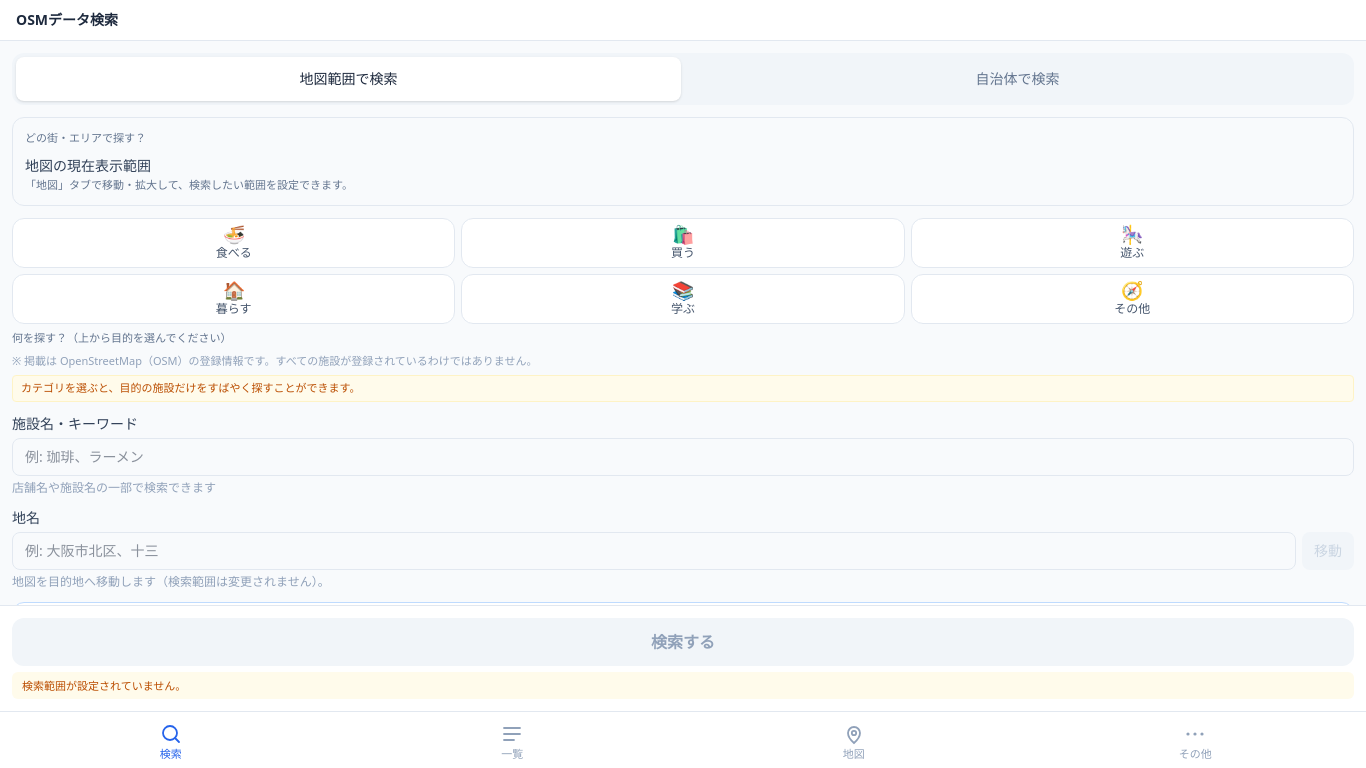
(#59) 地図タブ: 明示的な検索トリガー › マーカータップで施設詳細ボトムシートが開く
The image size is (1366, 768).
Click the button "🍜 食べる" at (234, 243), box [12,218,455,268]
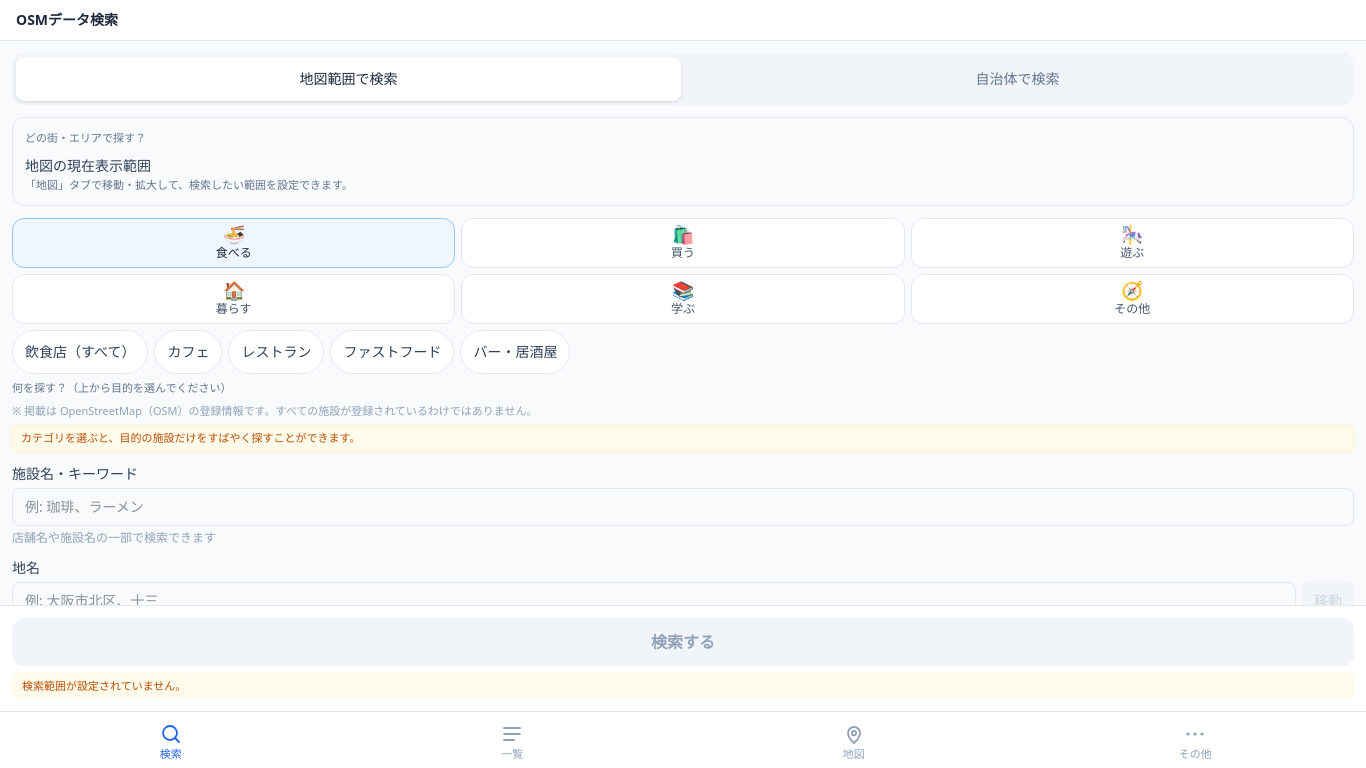
Click the button "カフェ" at (188, 352), box [154,330,222,374]
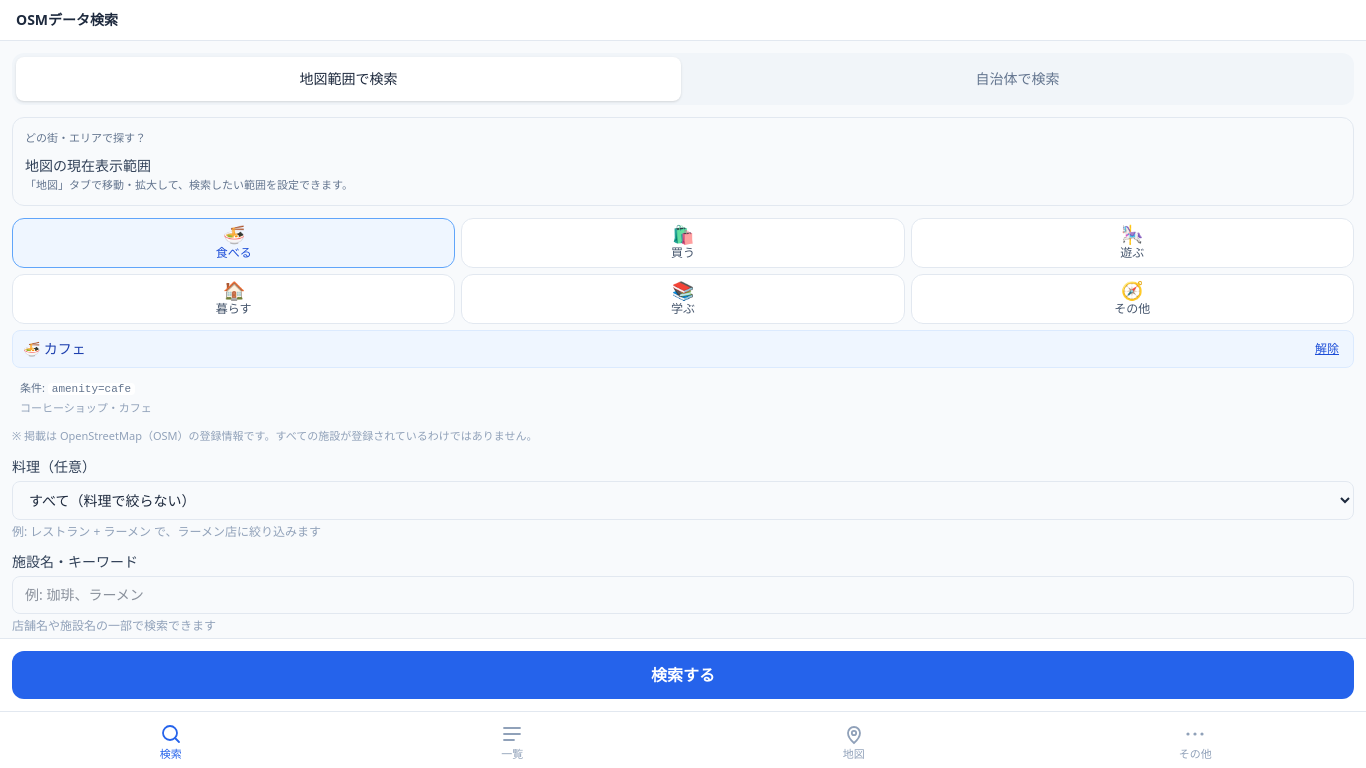
Click the button "検索する" at (683, 675), box [12,651,1354,699]
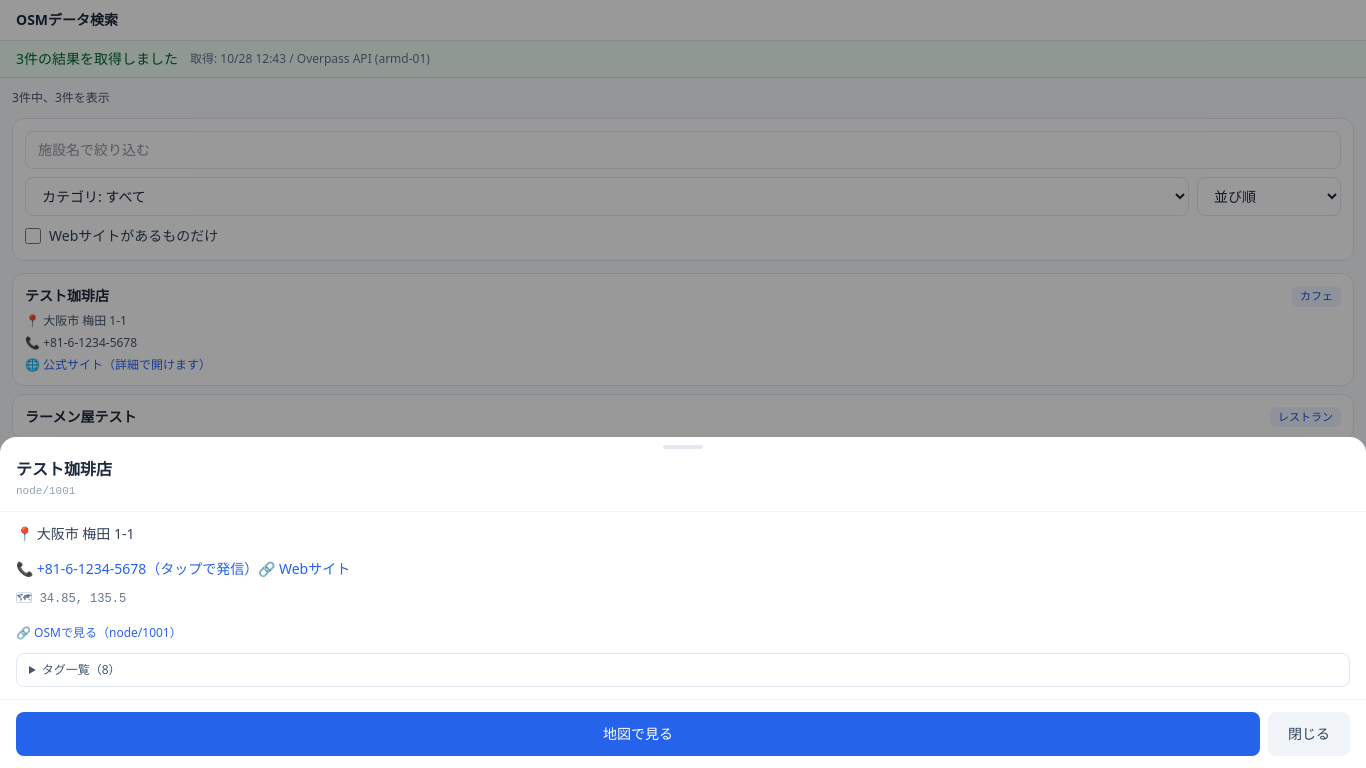
Result: the dialog named "施設詳細: テスト珈琲店" is shown at [0,436,1365,767]
